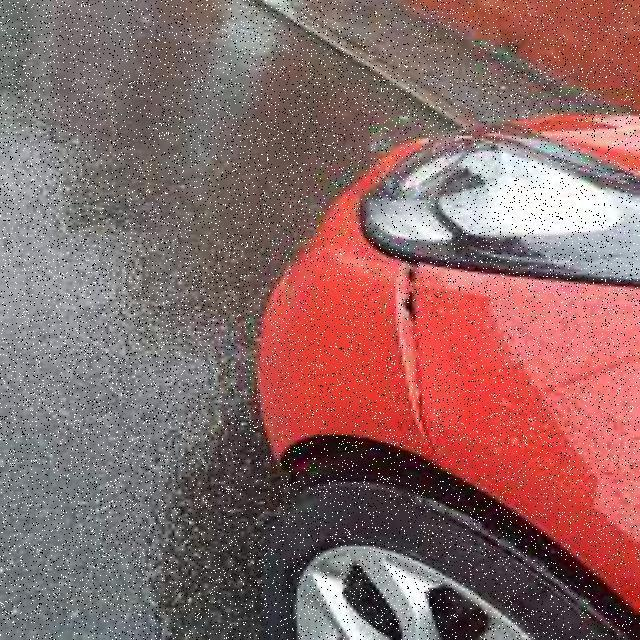front-bumper-dent: (240, 160, 522, 562)
